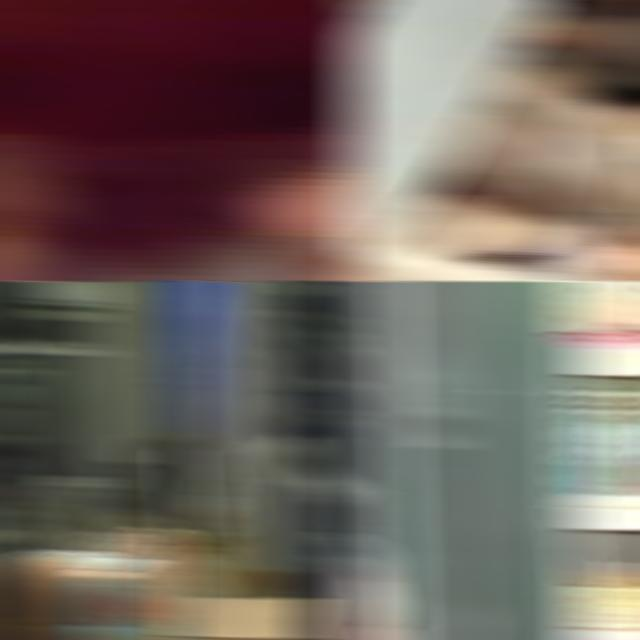Knife: (342, 0, 557, 257)
Knife_Handle: (0, 92, 362, 281), (271, 431, 360, 505), (442, 602, 493, 640)
